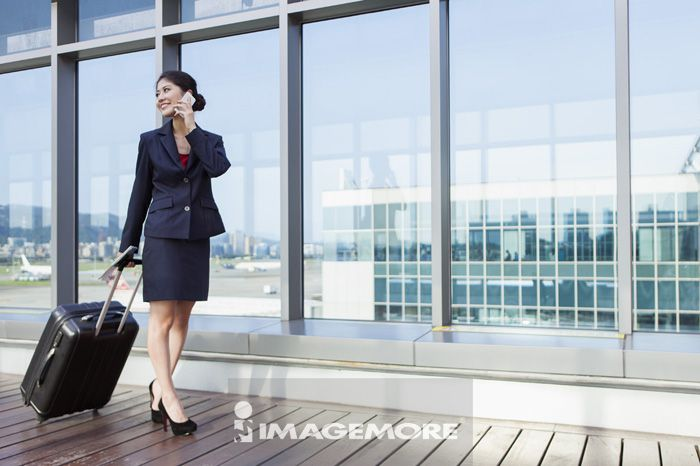phone: (177, 93, 196, 118)
talk: (155, 86, 197, 125)
